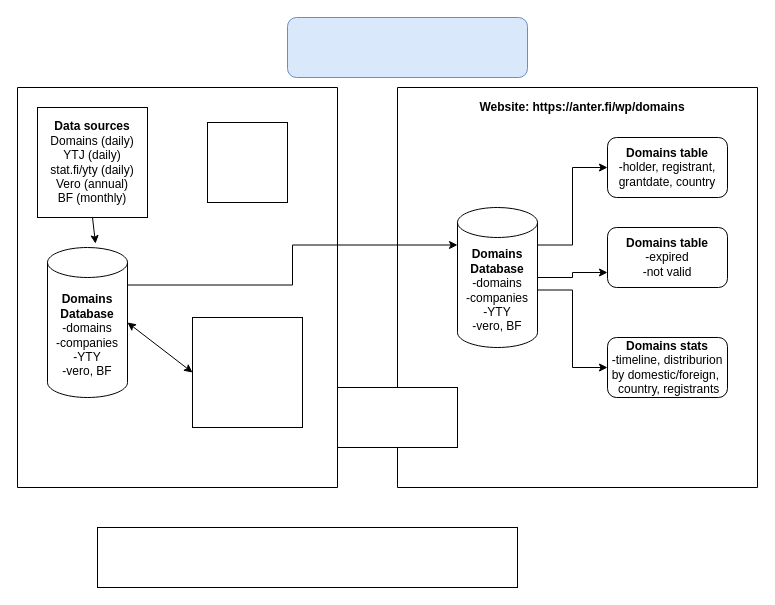
Some shapes in this 775 by 605 pixel diagram are drawn without their labels. Here are the shapes that lost their labels. From the top down, the box of each, then its label:
(286, 16, 528, 78): Finnish Domains - Daily update ver 0.8 28.1.2026
(192, 316, 302, 428): AI analysis for -activity -topic -webshop -domain park -etc.
(96, 526, 518, 588): app.diagrams.net / drawio
